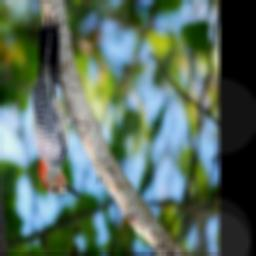Woodpecker: (33, 13, 90, 198)
